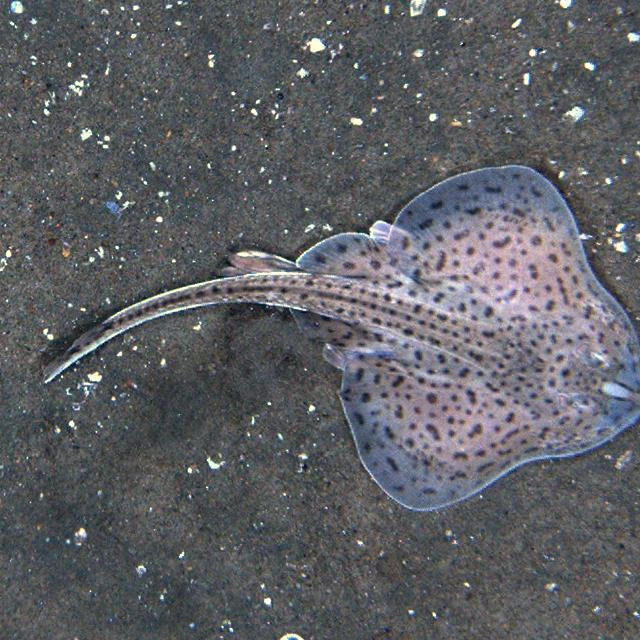skate: (49, 169, 637, 506)
